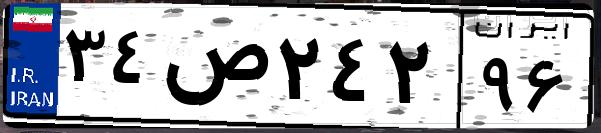2: (270, 28, 330, 110), (385, 28, 445, 110)
3: (57, 26, 110, 100)
4: (330, 28, 385, 110), (110, 28, 158, 98)
6: (525, 38, 570, 115)
9: (475, 38, 525, 113)
ص: (158, 20, 270, 120)
